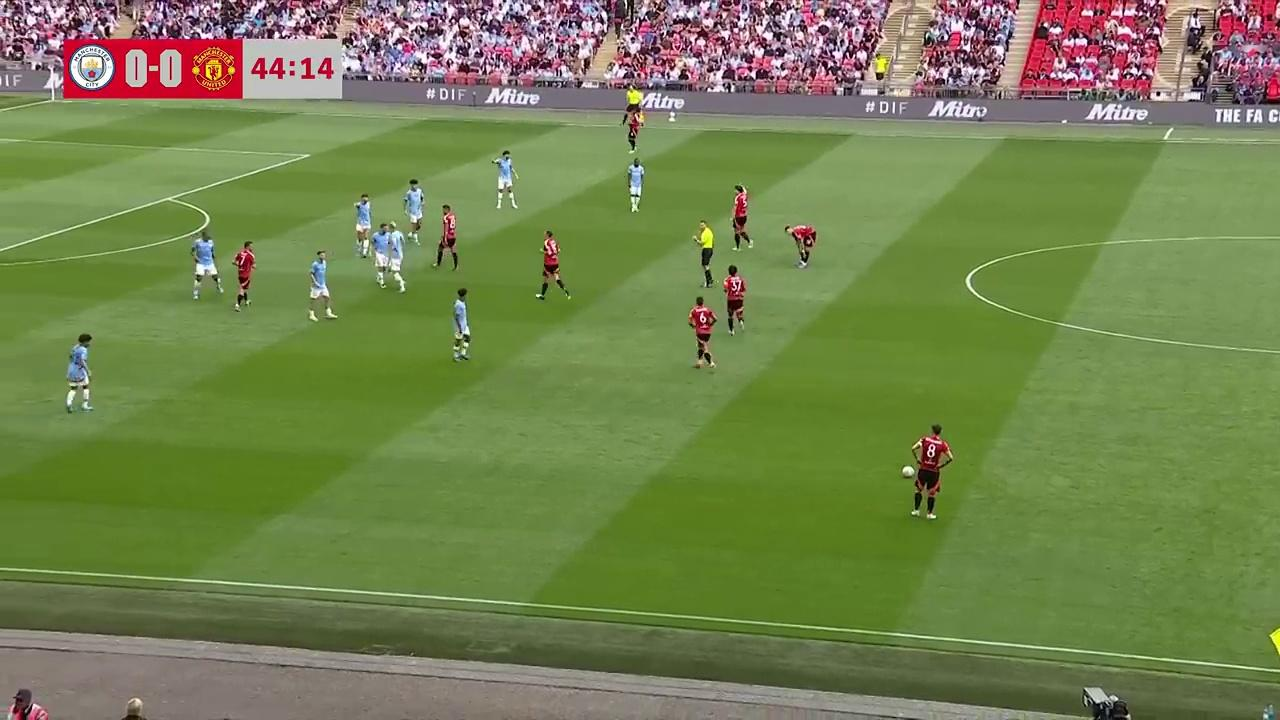ball: (901, 462, 915, 479)
player: (907, 423, 953, 518), (536, 229, 570, 300), (65, 332, 94, 414), (190, 231, 224, 300), (307, 249, 338, 321), (688, 295, 717, 370), (383, 222, 408, 293), (232, 240, 256, 312), (434, 203, 459, 270), (723, 264, 746, 334), (492, 149, 518, 209), (730, 185, 753, 250), (403, 178, 426, 243), (452, 287, 471, 362), (786, 221, 816, 268), (353, 192, 373, 256), (372, 220, 388, 291), (627, 156, 645, 213), (625, 108, 640, 155)
referee: (693, 220, 715, 287), (625, 87, 642, 128), (1269, 621, 1280, 671)
